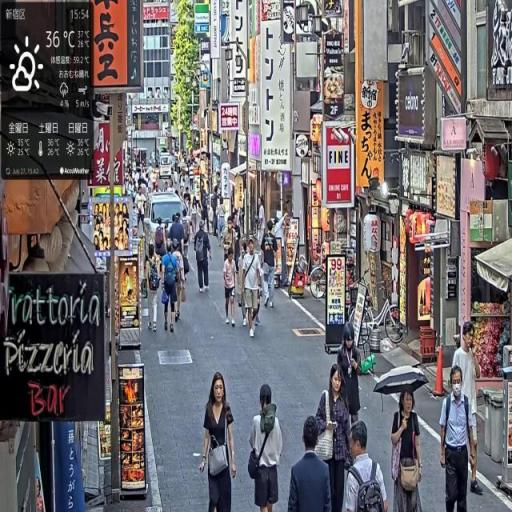person: (440, 365, 478, 511), (200, 372, 239, 512), (248, 382, 283, 512), (287, 417, 334, 512), (343, 422, 391, 512), (391, 387, 424, 512), (339, 324, 363, 431), (243, 237, 264, 339), (161, 240, 183, 333), (195, 223, 214, 296), (262, 230, 278, 312), (224, 249, 239, 328)
